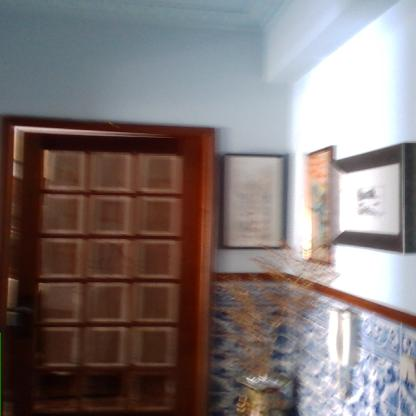closed: (0, 101, 228, 416)
